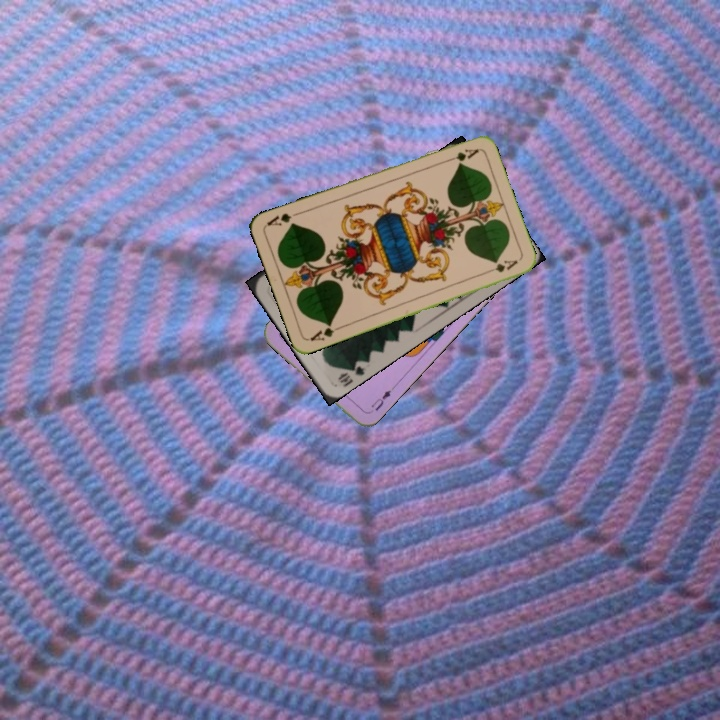EU: (365, 386, 394, 416)
G10: (333, 356, 368, 389)
GA: (306, 319, 345, 344), (441, 145, 481, 165)
